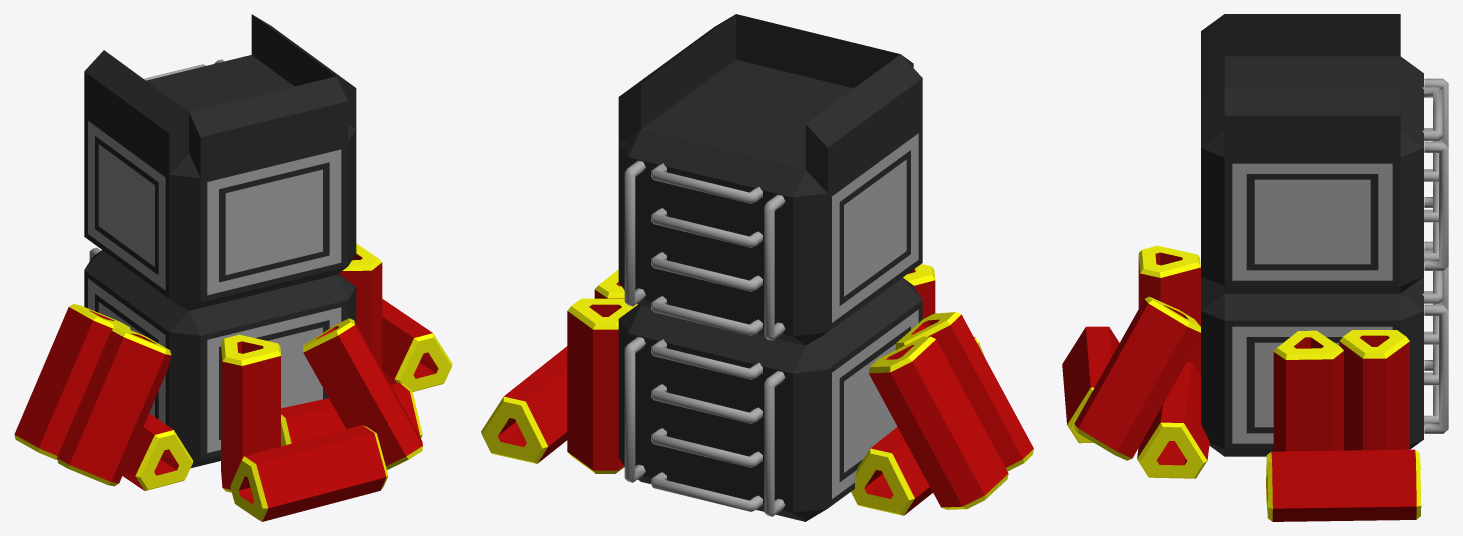
Rendered from tower.fbx.
The picture shows the model from 3 angles, left to right: view 1: azimuth 30°, elevation 25°; view 2: azimuth 150°, elevation 25°; view 3: azimuth 270°, elevation 25°; orthographic projection. The views are drawn at different scales.
Visible parts, largest first — view 1: base, gastank.004, gastank.007, gastank.008, gastank.002, gastank.006, gastank.003, gastank.005, gastank.001, gastank.009; view 2: base, gastank.002, ladder, gastank.011, gastank.003, gastank.004, gastank.005, handletop, handlebottom, gastank.006; view 3: base, gastank.003, gastank.008, gastank.001, gastank.011, gastank.009, gastank.006, gastank.007, ladder, handletop, handlebottom.
Part boxes in pixels (box(x1,y1,x2,y2)): base: box(84, 14, 356, 467); gastank.004: box(57, 327, 171, 486); gastank.007: box(230, 425, 388, 521); gastank.008: box(303, 318, 422, 469); gastank.002: box(14, 304, 130, 459); gastank.006: box(221, 334, 280, 492); gastank.003: box(382, 299, 452, 391); gastank.005: box(122, 413, 193, 490); gastank.001: box(338, 243, 382, 369); gastank.009: box(281, 383, 422, 446); base: box(618, 14, 922, 521); gastank.002: box(868, 336, 1008, 509); ladder: box(651, 163, 762, 511); gastank.011: box(567, 298, 637, 473); gastank.003: box(481, 346, 567, 463); gastank.004: box(895, 312, 1033, 471); gastank.005: box(851, 427, 932, 515); handletop: box(624, 160, 785, 340); handlebottom: box(624, 337, 785, 516); gastank.006: box(903, 264, 935, 318); base: box(1201, 14, 1423, 456); gastank.003: box(1266, 449, 1421, 521); gastank.008: box(1074, 296, 1200, 460); gastank.001: box(1273, 330, 1343, 451); gastank.011: box(1339, 330, 1409, 450); gastank.009: box(1137, 362, 1209, 478); gastank.006: box(1138, 245, 1200, 376); gastank.007: box(1062, 326, 1119, 443); ladder: box(1422, 87, 1442, 425); handletop: box(1424, 78, 1448, 270); handlebottom: box(1424, 241, 1448, 433).
Size of the model in its own units: 305 by 253 by 240.
